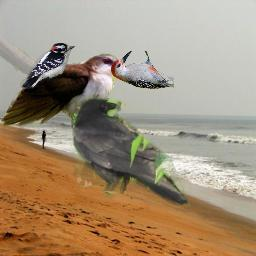Crow: (72, 98, 190, 205)
Cuckoo: (0, 4, 131, 133)
Woodpecker: (20, 43, 75, 89), (111, 51, 174, 89)
